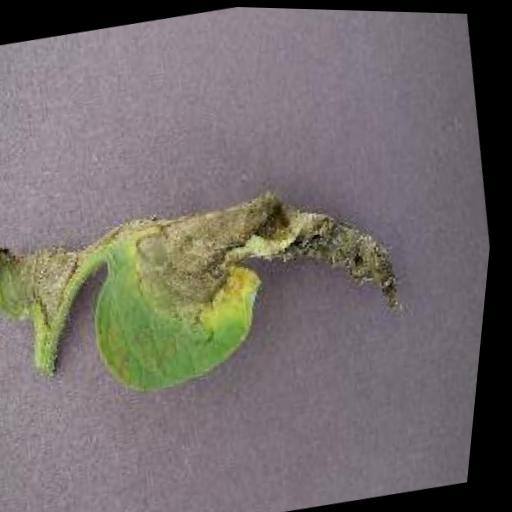Late Blight: (66, 149, 444, 414), (0, 225, 97, 357)
